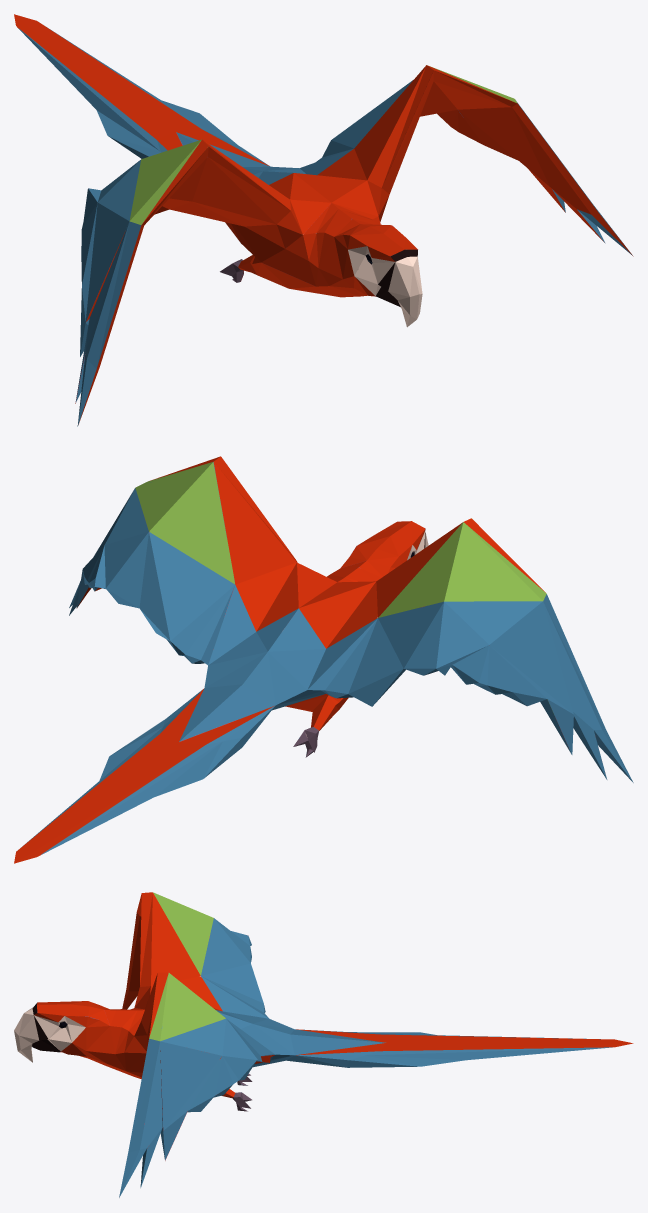
The model's file is Parrot.glb.
The picture shows the model from 3 angles, top to bottom: view 1: azimuth 30°, elevation 25°; view 2: azimuth 150°, elevation 25°; view 3: azimuth 270°, elevation 25°; orthographic projection. The views are drawn at different scales.
Visible parts, largest first — view 1: Mesh_0; view 2: Mesh_0; view 3: Mesh_0.
Boxes of the visible parts, x1,y1,x2,y2 form: Mesh_0: [14, 14, 633, 426]; Mesh_0: [14, 456, 633, 863]; Mesh_0: [14, 892, 633, 1197].
Size of the model in its own units: 79.5 by 33.7 by 100.
1 material, 1 textured.
